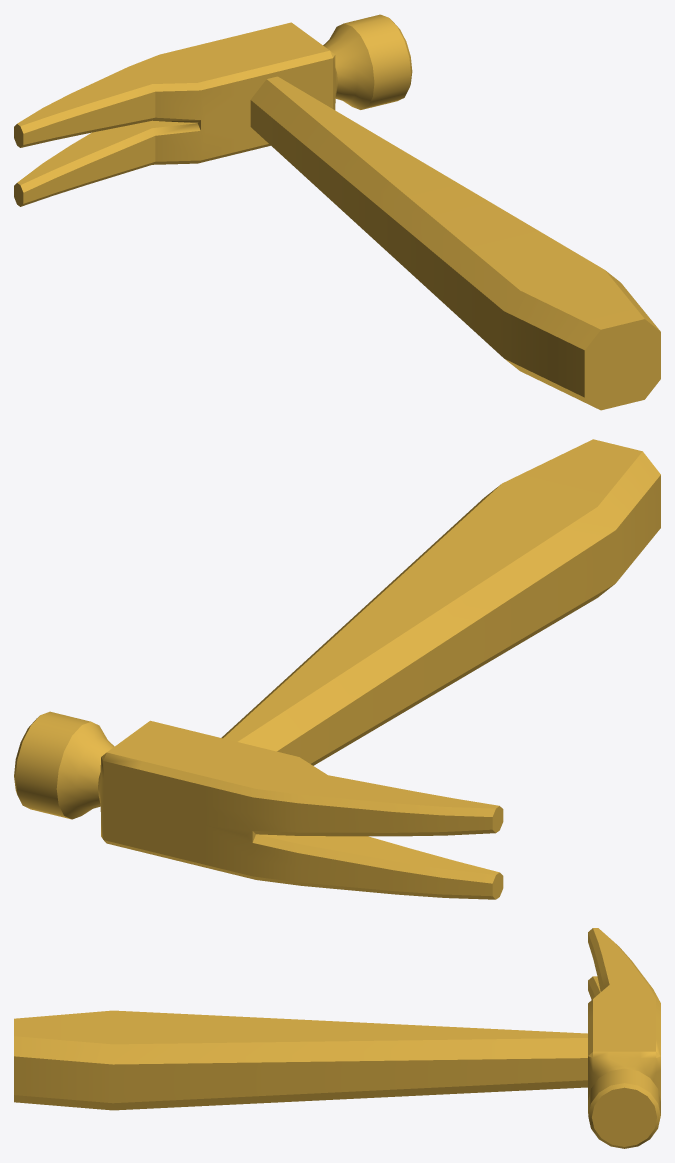
File: Hammer.glb
3 views of the same model, one above another, from view 1: azimuth 30°, elevation 25°; view 2: azimuth 150°, elevation 25°; view 3: azimuth 270°, elevation 25° (orthographic). The views are drawn at different scales.
Parts seen in each view (by area): view 1: hammer_hammer.1; view 2: hammer_hammer.1; view 3: hammer_hammer.1.
Boxes of the visible parts, <box> form: hammer_hammer.1: <box>14,14,660,410</box>; hammer_hammer.1: <box>14,439,660,899</box>; hammer_hammer.1: <box>14,928,660,1148</box>.
Bounding box in the file's own units: 0.3269 × 0.0645 × 0.5719.
1 material, 1 textured.
